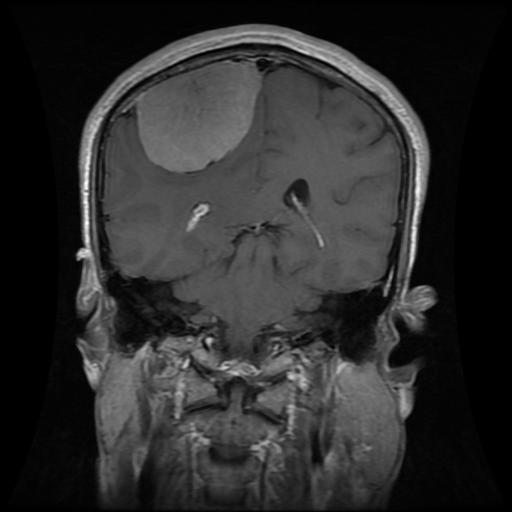Menigiomia_tumour: (135, 58, 261, 173)
